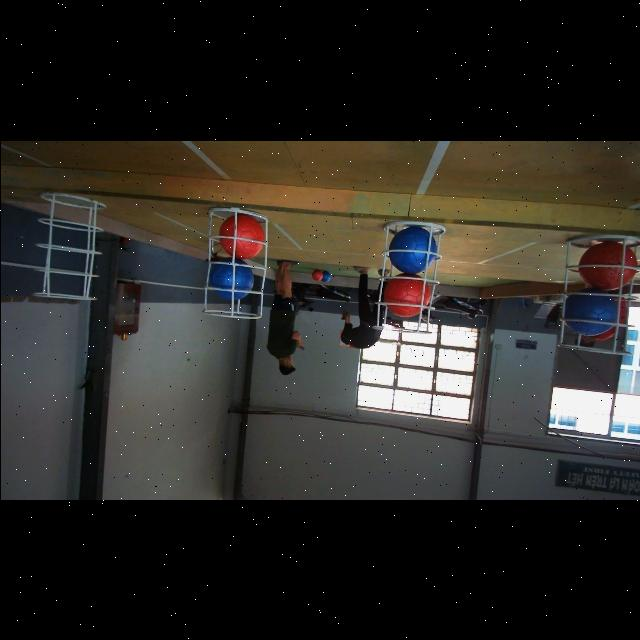B: (562, 291, 618, 337), (386, 225, 436, 273), (207, 258, 253, 302)
R: (578, 240, 636, 290), (384, 273, 430, 317), (219, 215, 263, 258)
